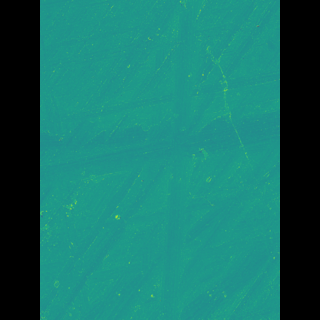Loch: (69, 113, 250, 187), (157, 0, 191, 320)
